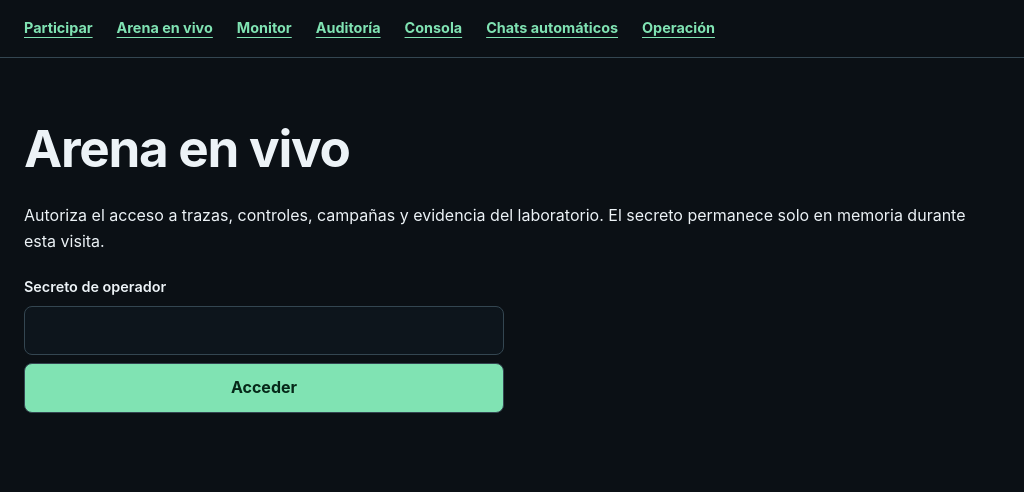
rutas › tras un 401 vuelve el acceso y la barra se ve otra vez
Step 1. Type "incorrecto" into the password field labelled "Secreto de operador" → [264, 330], box [24,306,504,355]
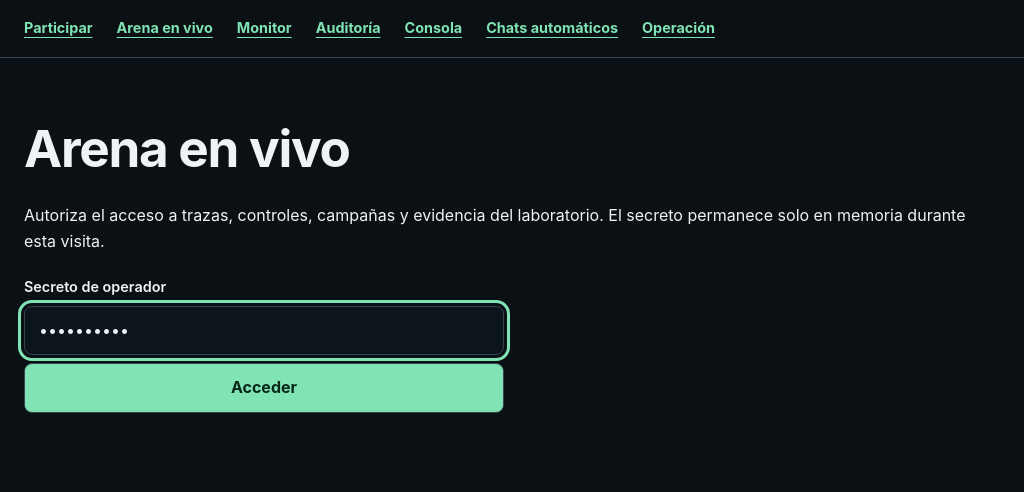
Step 2. Click the button "Acceder" → [264, 388], box [24,363,504,413]
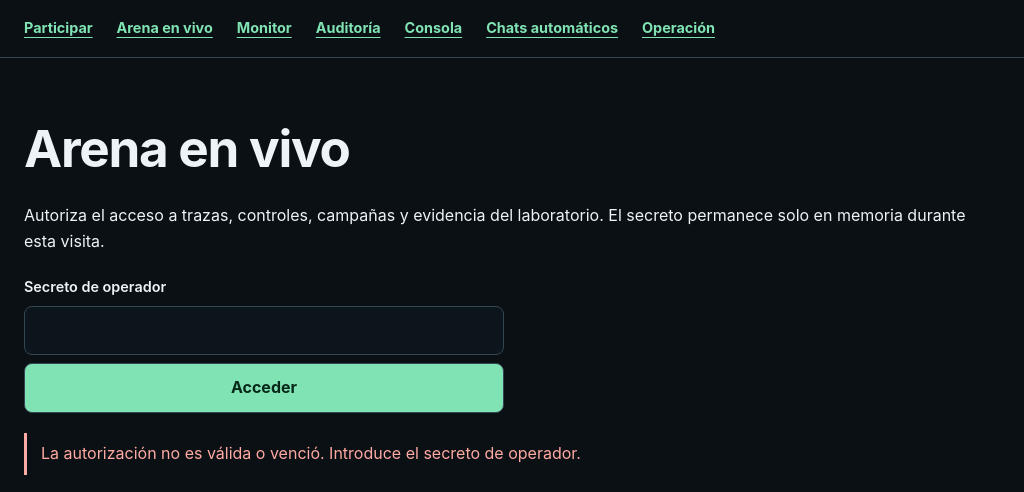
Expected: the link to "/monitor" is shown, [237,16,292,39]
Expected: the message shows "autorización no es válida", [41,443,581,463]
